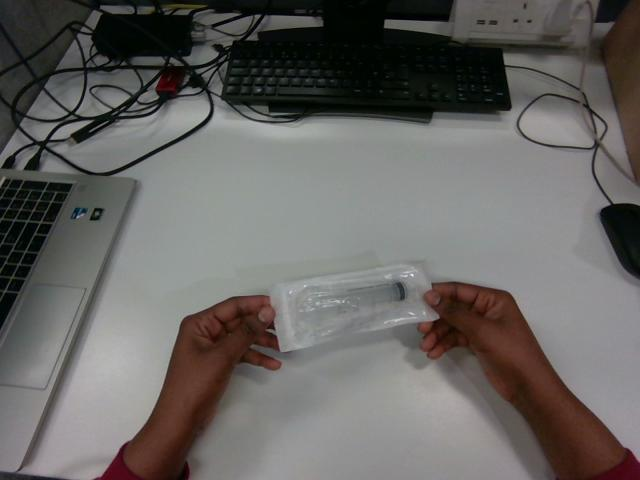syringe: (270, 262, 436, 351)
